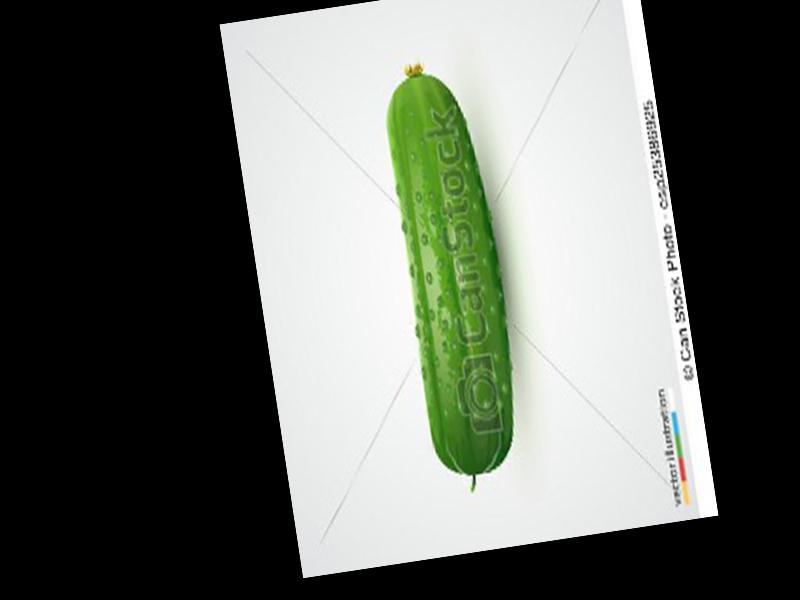Cucumber: (374, 54, 530, 497)
